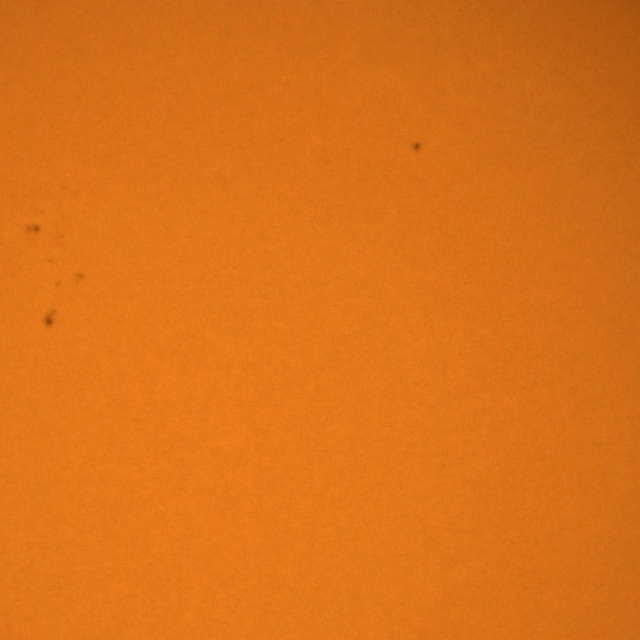sunspot: (42, 307, 58, 330), (25, 222, 42, 236), (73, 270, 86, 286), (410, 140, 422, 154)
